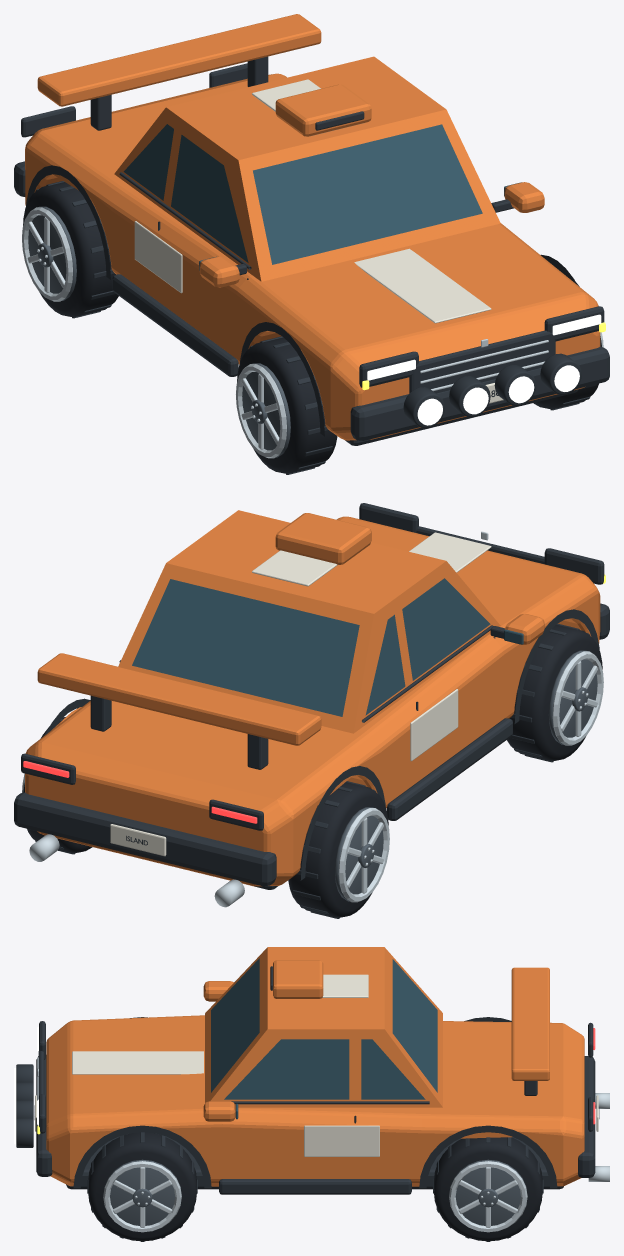
Rendered from rally.glb.
3 views of the same model, one above another, from view 1: azimuth 30°, elevation 25°; view 2: azimuth 150°, elevation 25°; view 3: azimuth 270°, elevation 25° (orthographic). The views are drawn at different scales.
Visible parts, largest first — view 1: SculptedBody.001, BodyPaint_rallyParts, GlassParts.001, TrimParts.005, WarmIvoryParts.001, TireParts.004, TireParts.006, HeadlightLEDParts.001, AlloyParts.008, AlloyParts.006, ForgedGraphiteParts.006, ForgedGraphiteParts.004 (+4 smaller); view 2: SculptedBody.001, BodyPaint_rallyParts, GlassParts.001, TrimParts.005, WarmIvoryParts.001, TireParts.006, TireParts.004, AlloyParts.006, AlloyParts.008, ForgedGraphiteParts.004, ForgedGraphiteParts.006, AlloyParts.005 (+3 smaller); view 3: SculptedBody.001, BodyPaint_rallyParts, GlassParts.001, TrimParts.005, WarmIvoryParts.001, TireParts.005, TireParts.007, ForgedGraphiteParts.005, ForgedGraphiteParts.007, AlloyParts.007, AlloyParts.009, AlloyParts.005 (+1 smaller).
Boxes of the visible parts, box(x1,y1,x2,y2) form: SculptedBody.001: box(25, 73, 600, 440); BodyPaint_rallyParts: box(37, 14, 544, 287); GlassParts.001: box(123, 124, 521, 270); TrimParts.005: box(14, 56, 609, 445); WarmIvoryParts.001: box(134, 79, 503, 403); TireParts.004: box(237, 337, 337, 473); TireParts.006: box(23, 182, 118, 317); HeadlightLEDParts.001: box(367, 314, 601, 425); AlloyParts.008: box(22, 207, 72, 301); AlloyParts.006: box(236, 364, 286, 458); ForgedGraphiteParts.006: box(28, 206, 76, 300); ForgedGraphiteParts.004: box(242, 363, 290, 457); SculptedBody.001: box(25, 516, 600, 886); BodyPaint_rallyParts: box(37, 510, 544, 745); GlassParts.001: box(132, 578, 523, 716); TrimParts.005: box(14, 503, 609, 889); WarmIvoryParts.001: box(110, 532, 491, 856); TireParts.006: box(288, 782, 388, 917); TireParts.004: box(507, 625, 602, 761); AlloyParts.006: box(552, 651, 603, 745); AlloyParts.008: box(338, 808, 389, 902); ForgedGraphiteParts.004: box(548, 650, 597, 744); ForgedGraphiteParts.006: box(335, 807, 383, 901); AlloyParts.005: box(29, 531, 488, 907); SculptedBody.001: box(46, 1015, 584, 1186); BodyPaint_rallyParts: box(203, 947, 549, 1121); GlassParts.001: box(211, 958, 437, 1119); TrimParts.005: box(16, 966, 599, 1194); WarmIvoryParts.001: box(35, 974, 598, 1156); TireParts.005: box(88, 1132, 196, 1241); TireParts.007: box(434, 1137, 542, 1241); ForgedGraphiteParts.005: box(103, 1159, 181, 1225); ForgedGraphiteParts.007: box(449, 1159, 527, 1225); AlloyParts.007: box(103, 1161, 181, 1232); AlloyParts.009: box(449, 1161, 527, 1232); AlloyParts.005: box(37, 1057, 609, 1181).
Size of the model in its own units: 2.32 by 1.76 by 4.48.
